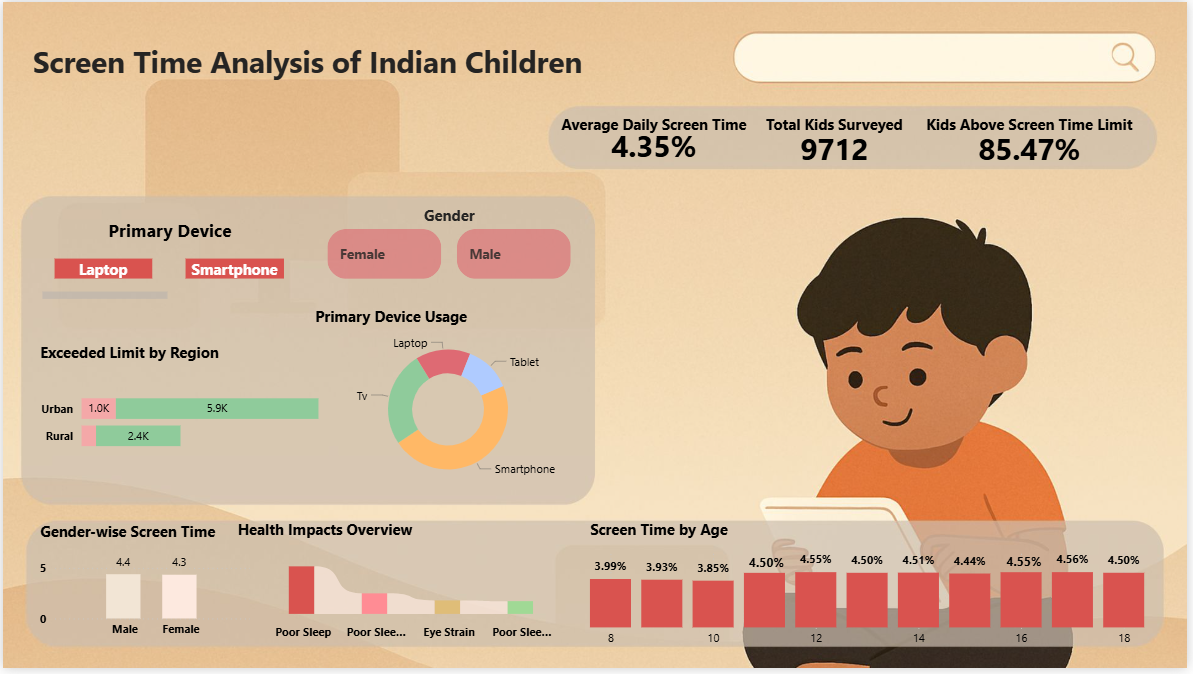

This screenshot's page, from the dashboard's own definition file:
{"tool":"powerbi","page":{"name":"Page 1","canvas":[1280,720],"ordinal":0},"visuals":[{"type":"card","title":"Average Daily Screen Time","fields":{"Values":["cleaned_dataset.AVG_Screen_Time"]},"box":[595.5,120.8,215.4,54.9],"z":0},{"type":"card","title":"Total Kids Surveyed","fields":{"Values":["cleaned_dataset.Total_kids"]},"box":[800,120.8,197.6,60.4],"z":1000},{"type":"card","title":"Kids Above Screen Time Limit","fields":{"Values":["cleaned_dataset.Percentage_Exceeded_Recommended_Limit"]},"box":[971.5,120.8,275.8,60.4],"z":2000},{"type":"columnChart","title":" Screen Time by Age","fields":{"Category":["cleaned_dataset.age"],"Y":["cleaned_dataset.AVG_Screen_Time"]},"box":[629.8,558.5,609.3,148.2],"z":3000},{"type":"clusteredColumnChart","title":"Gender-wise Screen Time","fields":{"Category":["cleaned_dataset.gender"],"Y":["Avg(cleaned_dataset.avg_daily_screen_time_hr)"]},"box":[35.7,561.2,237.4,135.8],"z":4000},{"type":"donutChart","title":"Primary Device Usage","fields":{"Category":["cleaned_dataset.primary_device"],"Y":["CountNonNull(cleaned_dataset.age)"]},"box":[332.1,328,297.8,203.1],"z":5000},{"type":"barChart","title":"Exceeded Limit by Region","fields":{"Category":["cleaned_dataset.urban_or_rural"],"Series":["cleaned_dataset.exceeded_recommended_limit"],"Y":["CountNonNull(cleaned_dataset.age)"]},"box":[35.7,367.8,354,145.5],"z":6000},{"type":"ribbonChart","title":"Health Impacts Overview","fields":{"Category":["cleaned_dataset.health_impacts"],"Y":["CountNonNull(cleaned_dataset.gender)"]},"box":[248.4,558.5,365,138.6],"z":7000},{"type":"advancedSlicerVisual","title":"Gender","fields":{"Values":["cleaned_dataset.gender"]},"box":[345.8,219.6,273.1,86.4],"z":9000},{"type":"advancedSlicerVisual","title":"Primary Device","fields":{"Values":["cleaned_dataset.primary_device"]},"box":[38.4,233.3,285.4,94.7],"z":11000},{"type":"textbox","box":[27.4,38.4,612,59],"z":11001},{"type":"textbox","box":[1079.9,590.1,97.4,31.6],"z":11002},{"type":"textbox","box":[801.4,591.4,97.4,31.6],"z":11003}]}

Visuals, with their boxes in screenshot pixels (x1, y1, x2, y2), scaled from the page's 1280x720 canvas onto the 1193x674 screenshot:
"Average Daily Screen Time" card: [x1=555, y1=113, x2=756, y2=164]
"Total Kids Surveyed" card: [x1=746, y1=113, x2=930, y2=170]
"Kids Above Screen Time Limit" card: [x1=905, y1=113, x2=1163, y2=170]
" Screen Time by Age" columnChart: [x1=587, y1=523, x2=1155, y2=662]
"Gender-wise Screen Time" clusteredColumnChart: [x1=33, y1=525, x2=255, y2=652]
"Primary Device Usage" donutChart: [x1=310, y1=307, x2=587, y2=497]
"Exceeded Limit by Region" barChart: [x1=33, y1=344, x2=363, y2=481]
"Health Impacts Overview" ribbonChart: [x1=232, y1=523, x2=572, y2=653]
"Gender" advancedSlicerVisual: [x1=322, y1=206, x2=577, y2=286]
"Primary Device" advancedSlicerVisual: [x1=36, y1=218, x2=302, y2=307]
textbox: [x1=26, y1=36, x2=596, y2=91]
textbox: [x1=1007, y1=552, x2=1097, y2=582]
textbox: [x1=747, y1=554, x2=838, y2=583]
